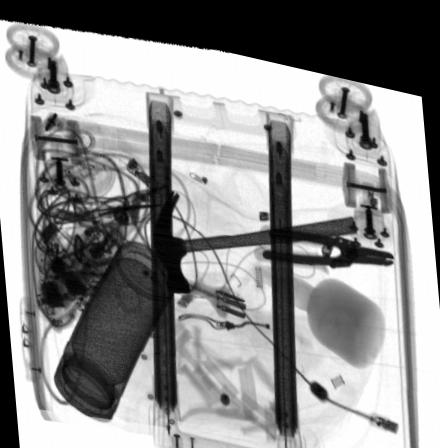Hammer: (149, 182, 356, 283)
Pliers: (251, 210, 393, 252)
Scissors: (83, 194, 166, 213)
